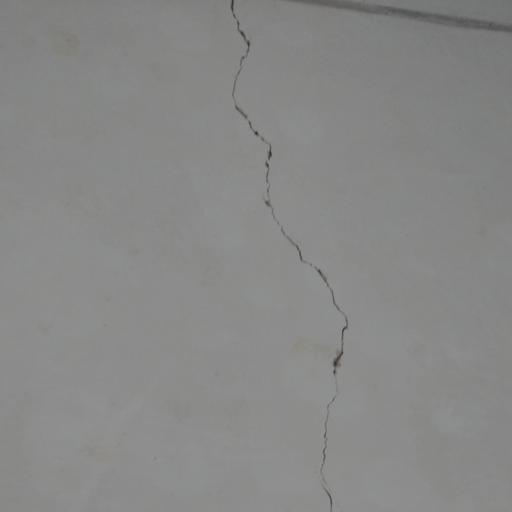major_crack: (229, 0, 351, 512)
